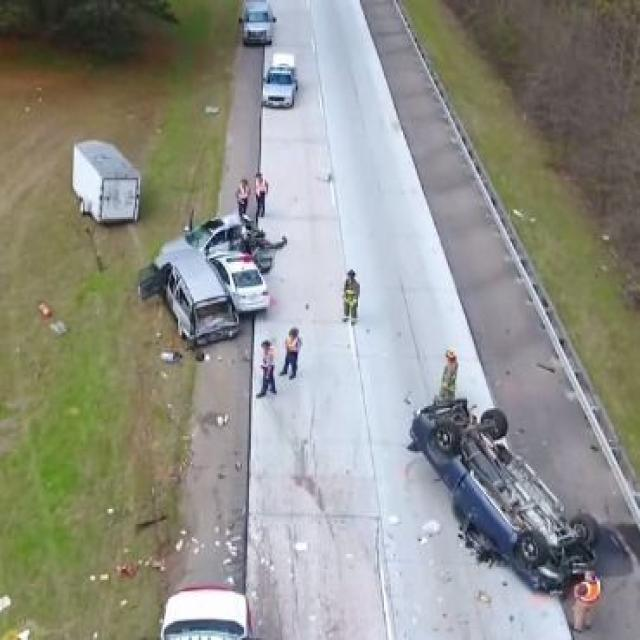traffic_incident: (403, 387, 592, 595), (135, 215, 284, 346)
